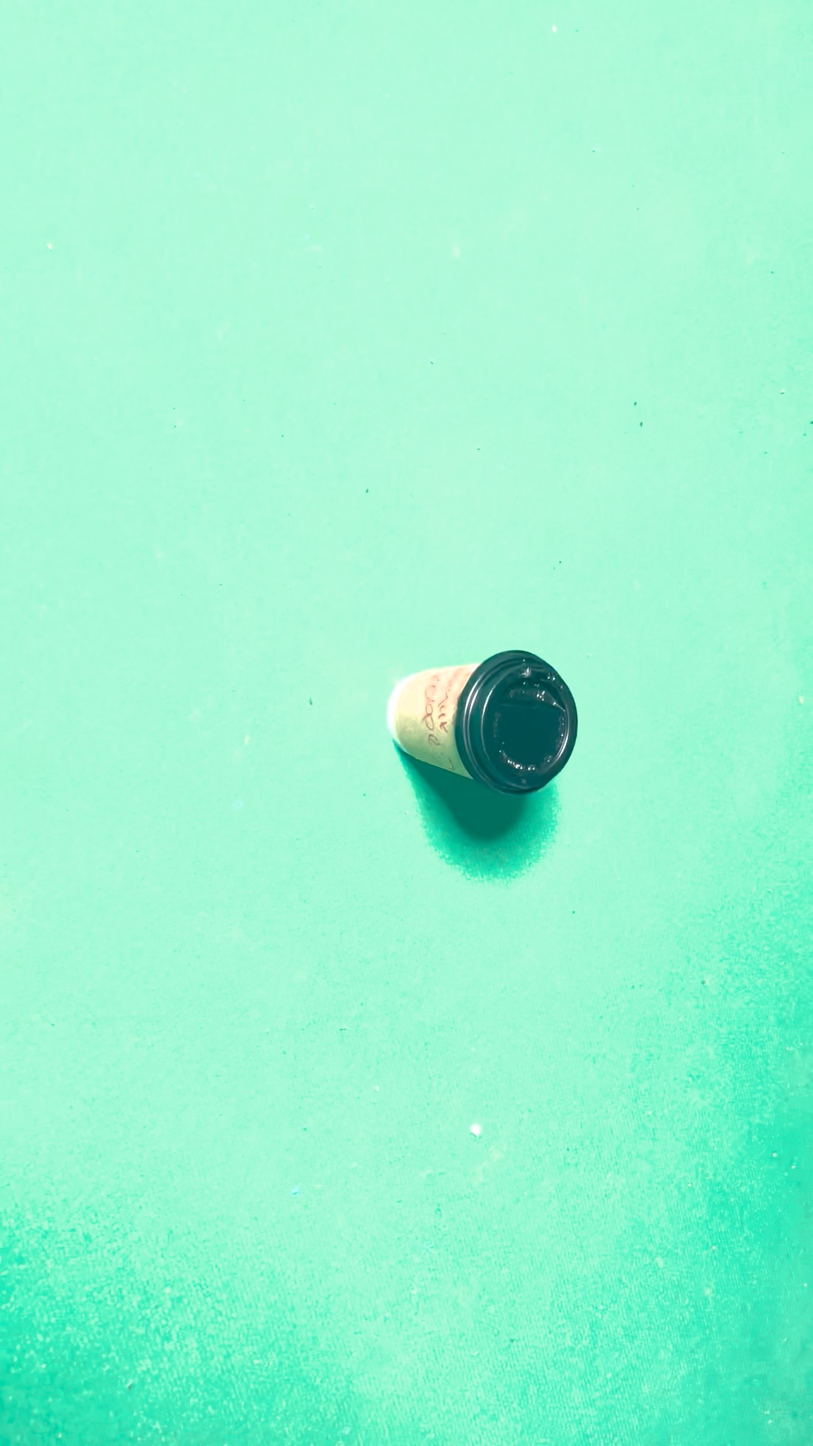cup: (406, 383, 491, 799)
